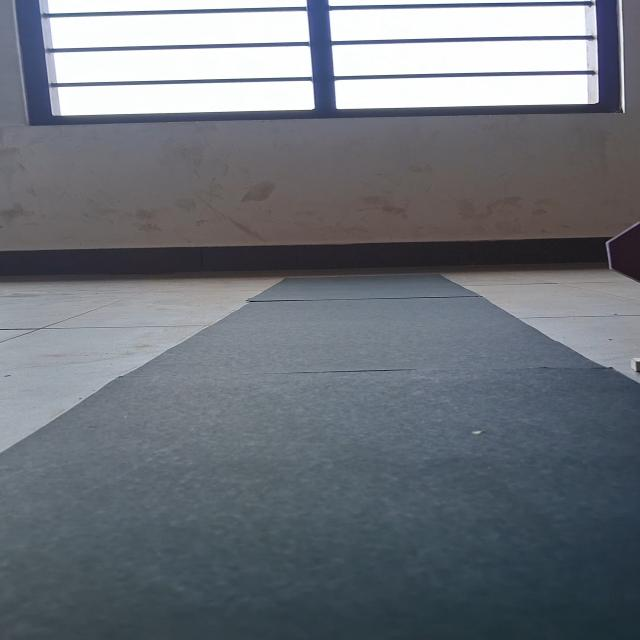Stop: (604, 218, 640, 284)
